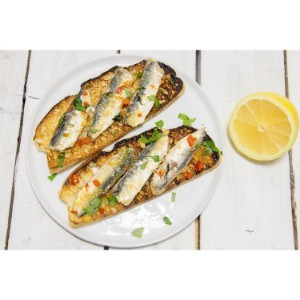sardine_brain food: (28, 149, 164, 224), (49, 59, 170, 137)
